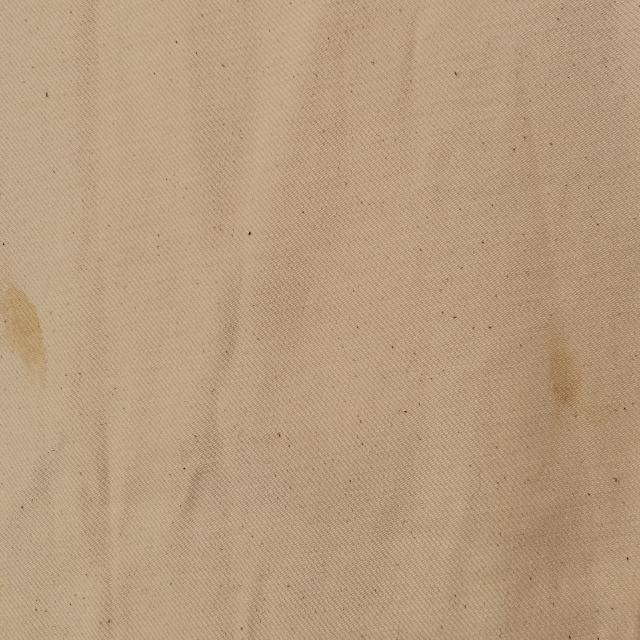taaaches: (1, 274, 52, 379), (542, 323, 586, 427)
